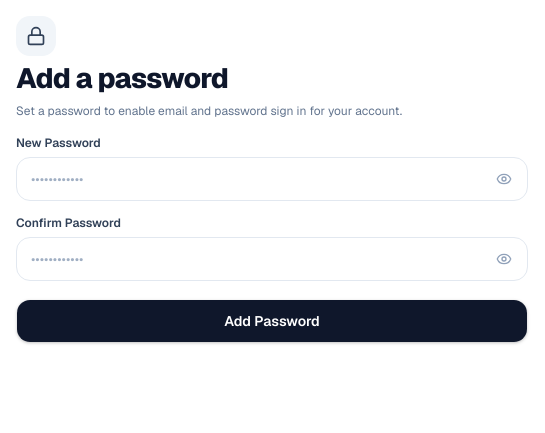
Test: AddPasswordForm › displays server error message when submission fails
Type "ValidPassword123!" into the password field labelled "New Password" at x=272, y=179, box [16,157,528,201]
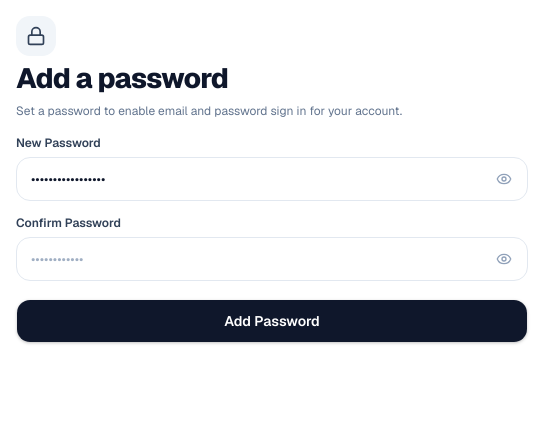
Type "ValidPassword123!" into the password field labelled "Confirm Password" at x=272, y=259, box [16,237,528,281]
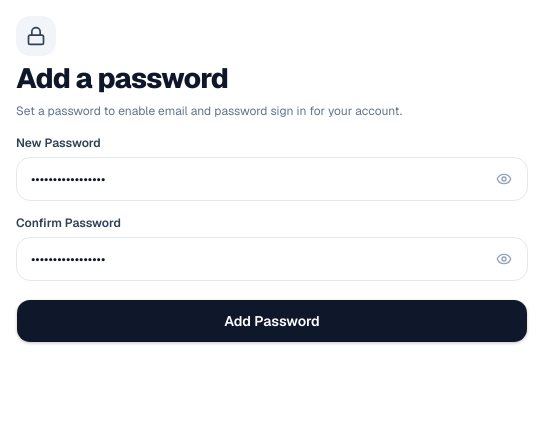
Click the button "Add Password" at x=272, y=321, box [16,299,528,343]
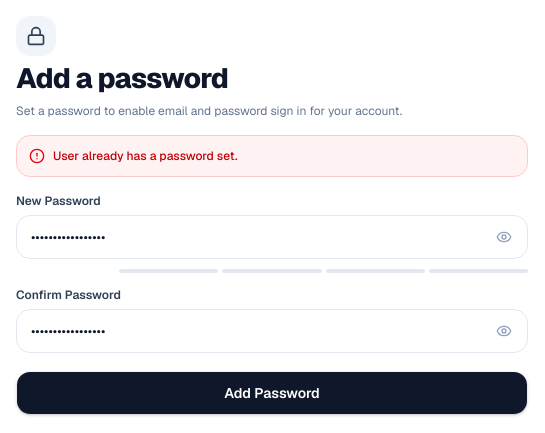
Expected: the message reads "User already has a password set.", [53,148,238,164]
